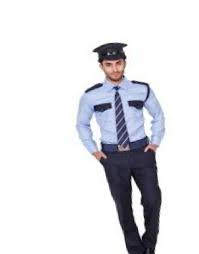uniform: (80, 40, 172, 248)
